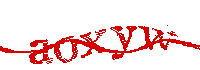a: (28, 37, 52, 66)
o: (54, 33, 79, 66)
w: (140, 24, 176, 53)
x: (80, 29, 107, 58)
y: (108, 24, 138, 62)
